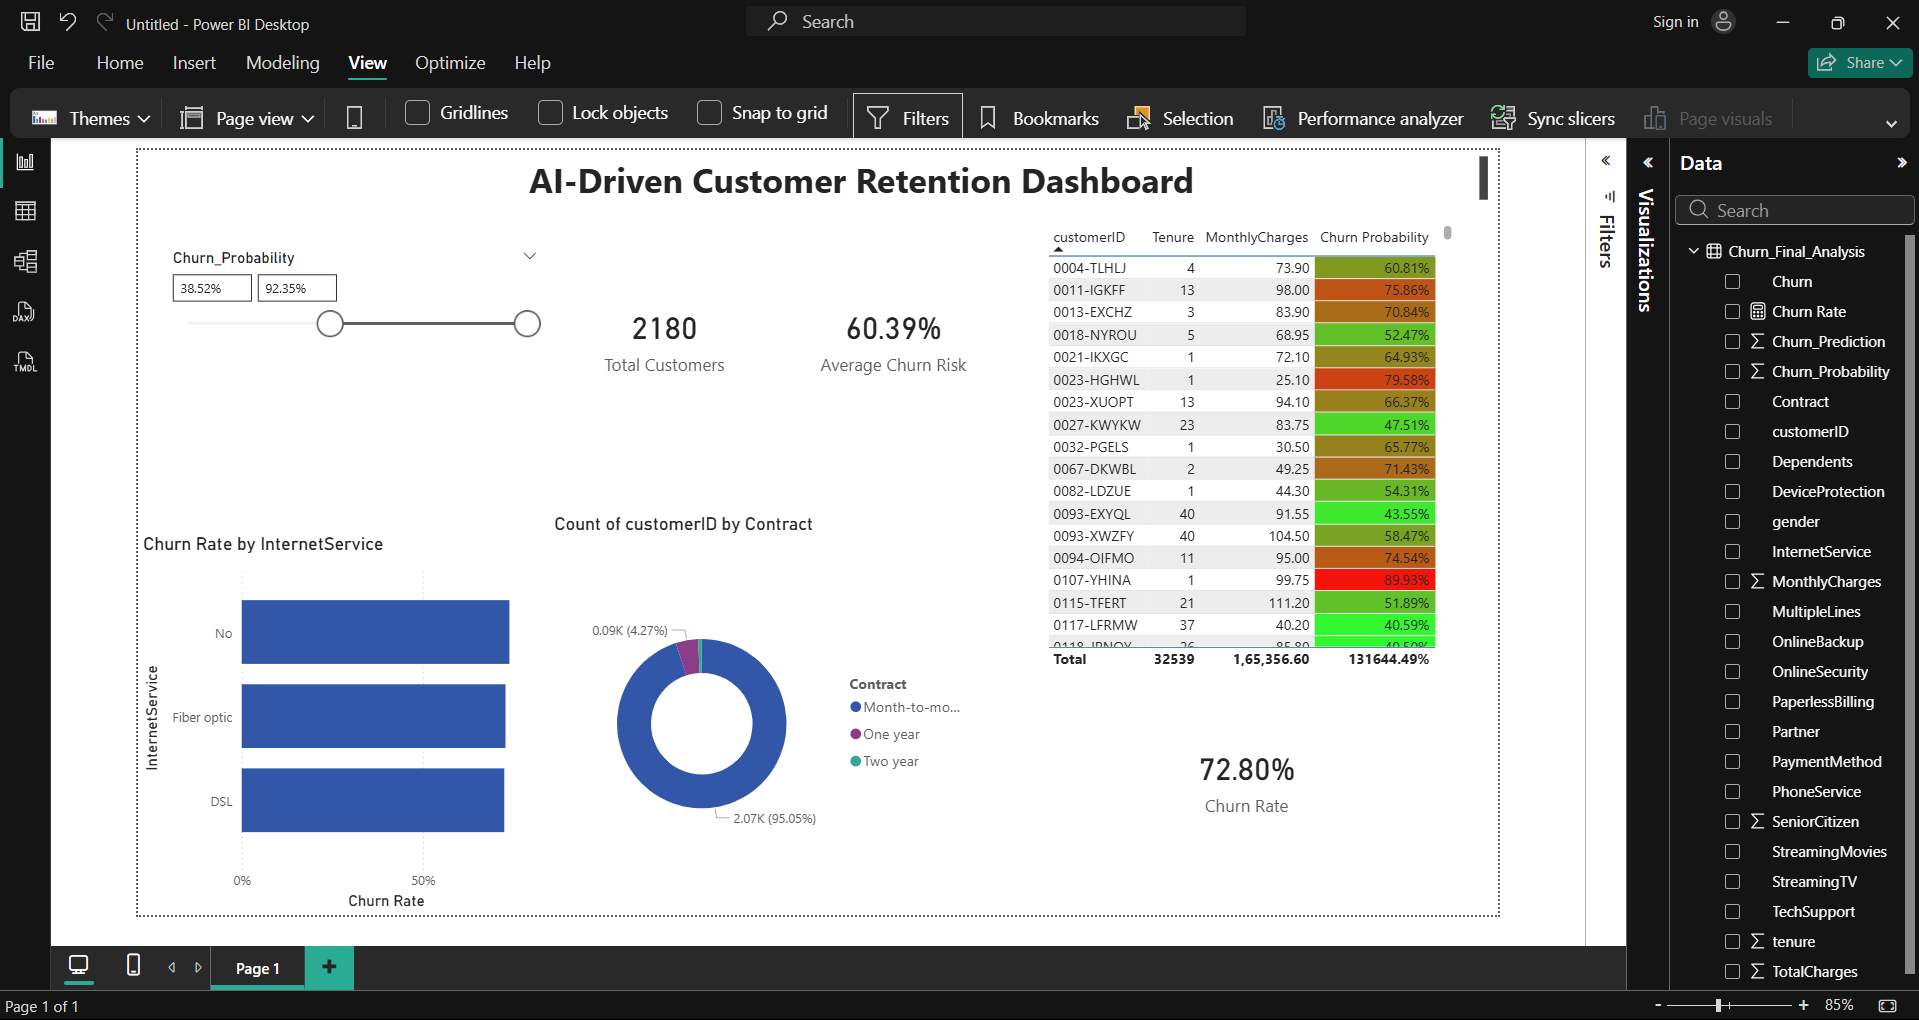

The page's visual inventory and layout, read from the dashboard file:
{"tool":"powerbi","page":{"name":"Page 1","canvas":[1280,720],"ordinal":0},"visuals":[{"type":"card","fields":{"Values":["Count(Churn_Final_Analysis.customerID)"]},"box":[400,78.8,191.2,196.2],"z":0},{"type":"card","fields":{"Values":["Churn_Final_Analysis.Churn Rate"]},"box":[940,493.8,207.5,196.2],"z":1000},{"type":"card","fields":{"Values":["Avg(Churn_Final_Analysis.Churn_Probability)"]},"box":[610,78.8,201.2,196.2],"z":2000},{"type":"donutChart","fields":{"Category":["Churn_Final_Analysis.Contract"],"Y":["CountNonNull(Churn_Final_Analysis.customerID)"]},"box":[387.5,341.2,407.5,378.8],"z":3000},{"type":"barChart","fields":{"Category":["Churn_Final_Analysis.InternetService"],"Y":["Churn_Final_Analysis.Churn Rate"]},"box":[0,360,387.5,360],"z":4000},{"type":"slicer","fields":{"Values":["Churn_Final_Analysis.Churn_Probability"]},"box":[20,88.8,367.5,236.2],"z":5000},{"type":"tableEx","fields":{"Values":["Churn_Final_Analysis.customerID","Sum(Churn_Final_Analysis.tenure)","Sum(Churn_Final_Analysis.MonthlyCharges)","Sum(Churn_Final_Analysis.Churn_Probability)"]},"box":[850,66.2,391.2,427.5],"z":6000},{"type":"textbox","box":[95,1.2,1180,51.2],"z":6001}]}

Visuals, with their boxes on the page's 1280x720 design canvas (x1, y1, x2, y2). These are canvas units, not pixel positions in the 1919x1020 screenshot, which may show the page scaled, cropped or inside an application window:
card - Count(Churn_Final_Analysis.customerID): rect(400, 79, 591, 275)
card - Churn_Final_Analysis.Churn Rate: rect(940, 494, 1148, 690)
card - Avg(Churn_Final_Analysis.Churn_Probability): rect(610, 79, 811, 275)
donutChart - Churn_Final_Analysis.Contract x CountNonNull(Churn_Final_Analysis.customerID): rect(388, 341, 795, 720)
barChart - Churn_Final_Analysis.InternetService x Churn_Final_Analysis.Churn Rate: rect(0, 360, 388, 720)
slicer - Churn_Final_Analysis.Churn_Probability: rect(20, 89, 388, 325)
tableEx - Churn_Final_Analysis.customerID x Sum(Churn_Final_Analysis.tenure): rect(850, 66, 1241, 494)
textbox: rect(95, 1, 1275, 52)
